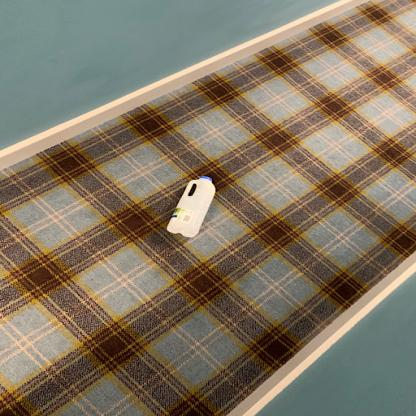trash: (167, 176, 217, 238)
